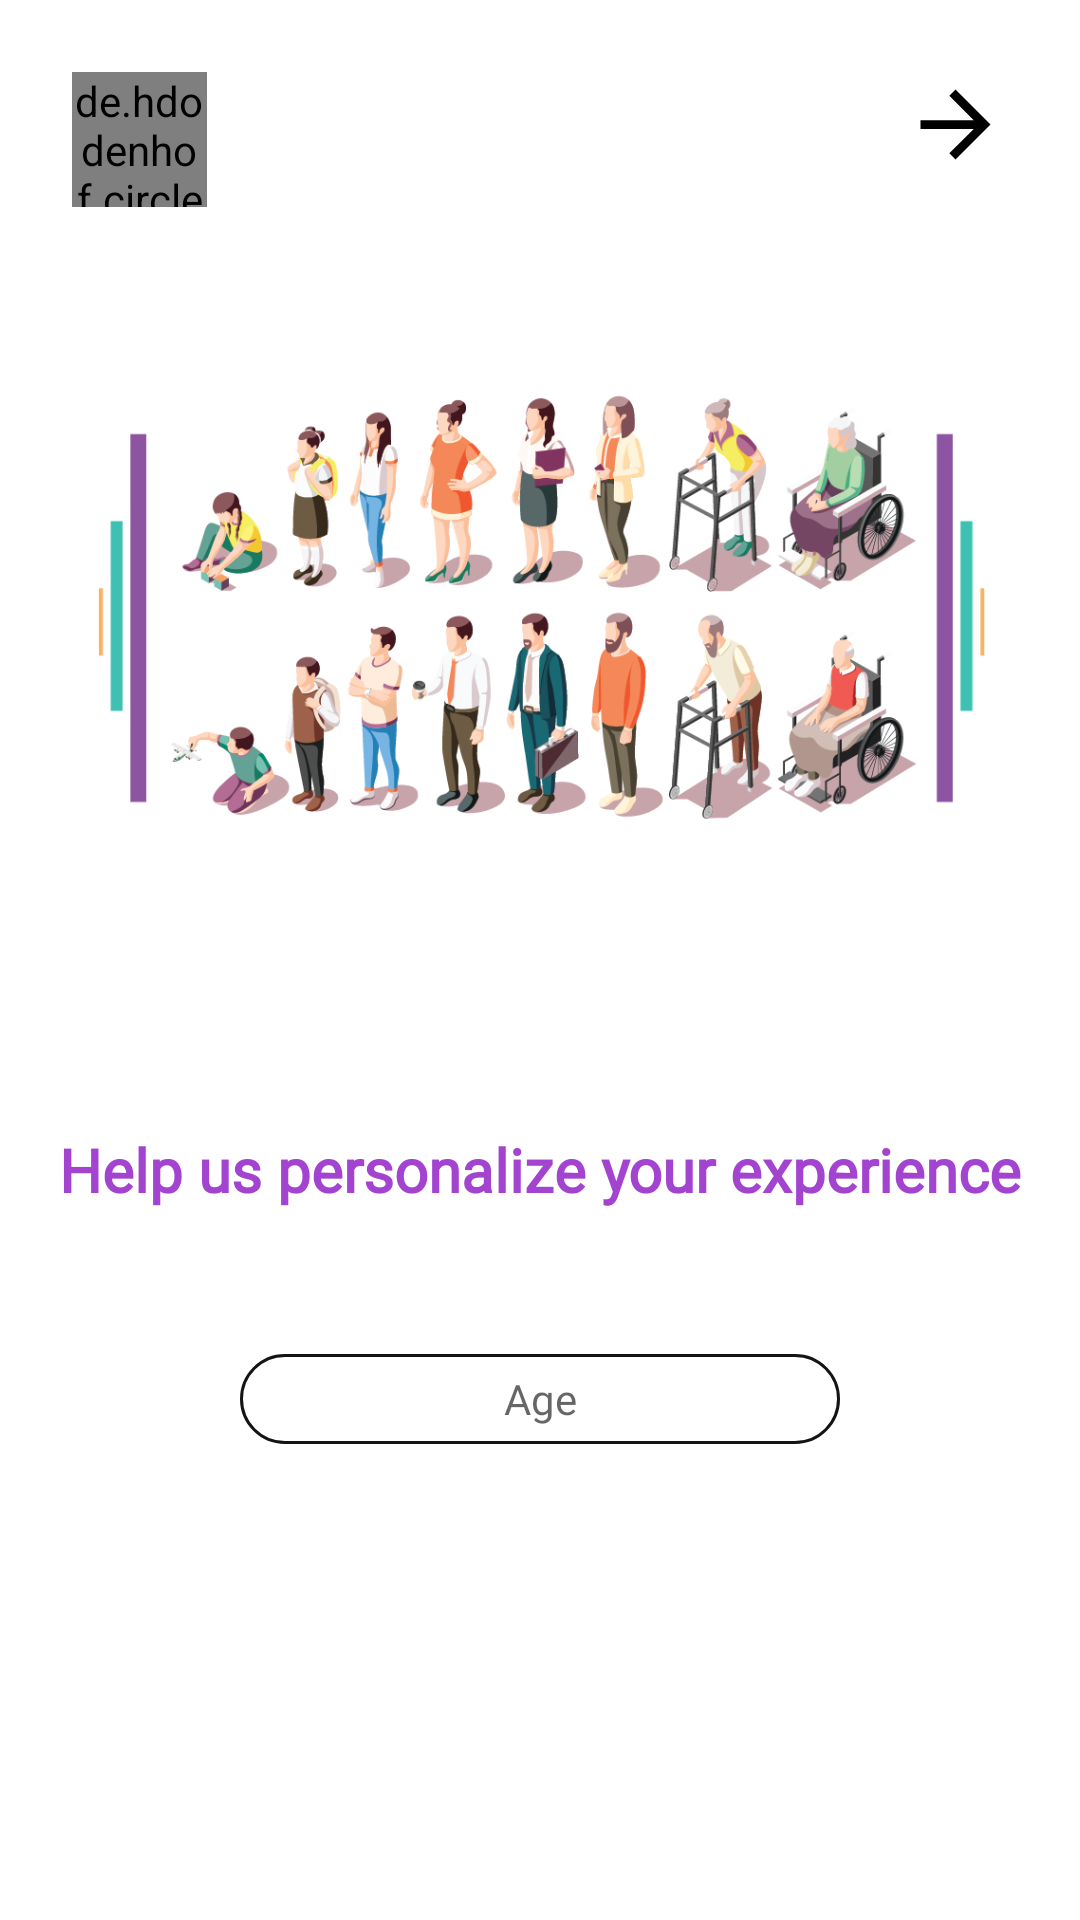

Icons on this 1080x1920 Android screen, each with its box as (x1, y1, x2, y2):
arrow forward: (920, 89, 991, 160)
